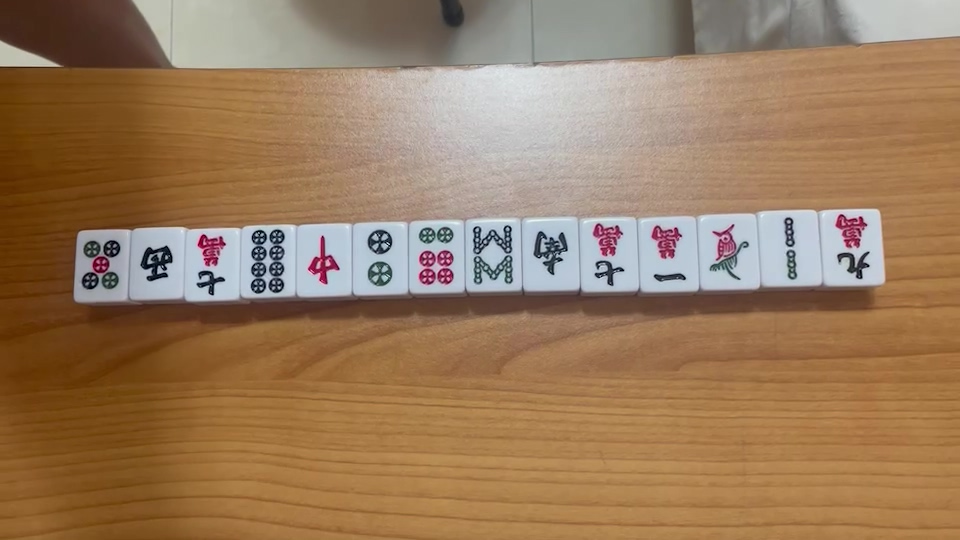b-1: (708, 222, 749, 284)
b-2: (774, 216, 803, 282)
b-8: (469, 222, 515, 288)
c-1: (645, 220, 694, 290)
c-7: (588, 222, 630, 289), (190, 232, 229, 297)
c-9: (833, 213, 876, 279)
d-2: (363, 225, 396, 291)
d-5: (80, 238, 122, 291)
d-6: (416, 225, 455, 288)
d-8: (248, 228, 286, 293)
honors-red: (304, 234, 343, 289)
honors-south: (533, 226, 570, 279)
honors-west: (136, 244, 176, 287)
